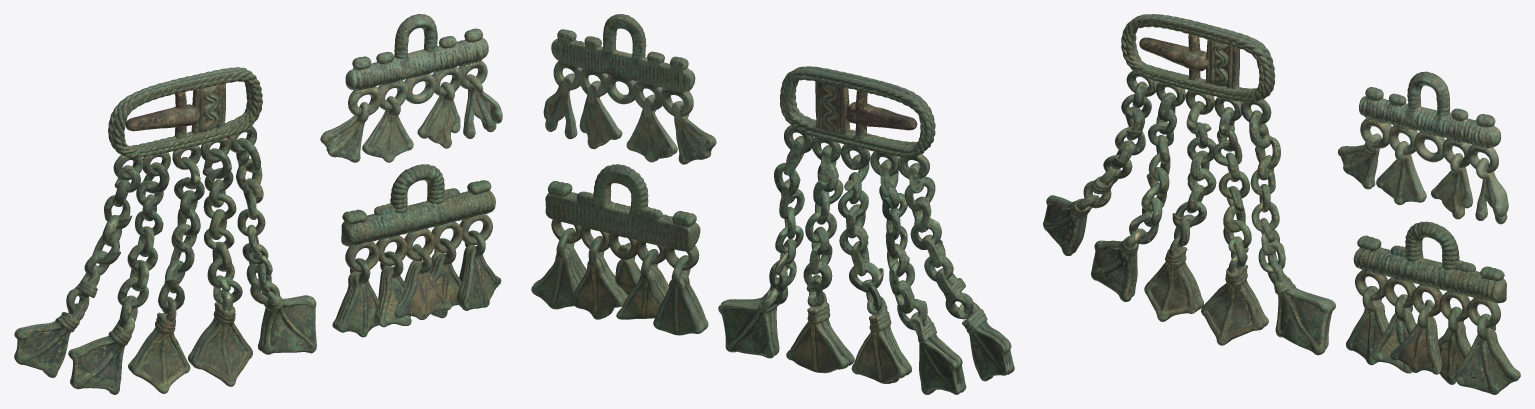
File: glinobitnaya-muroma-ornaments-v1.glb
3 views of the same model, side by side, from view 1: azimuth 30°, elevation 25°; view 2: azimuth 150°, elevation 25°; view 3: azimuth 330°, elevation 25° (orthographic).
Size of the model in its own units: 1.9 by 1.19 by 0.1708.
1 material, 1 textured.
